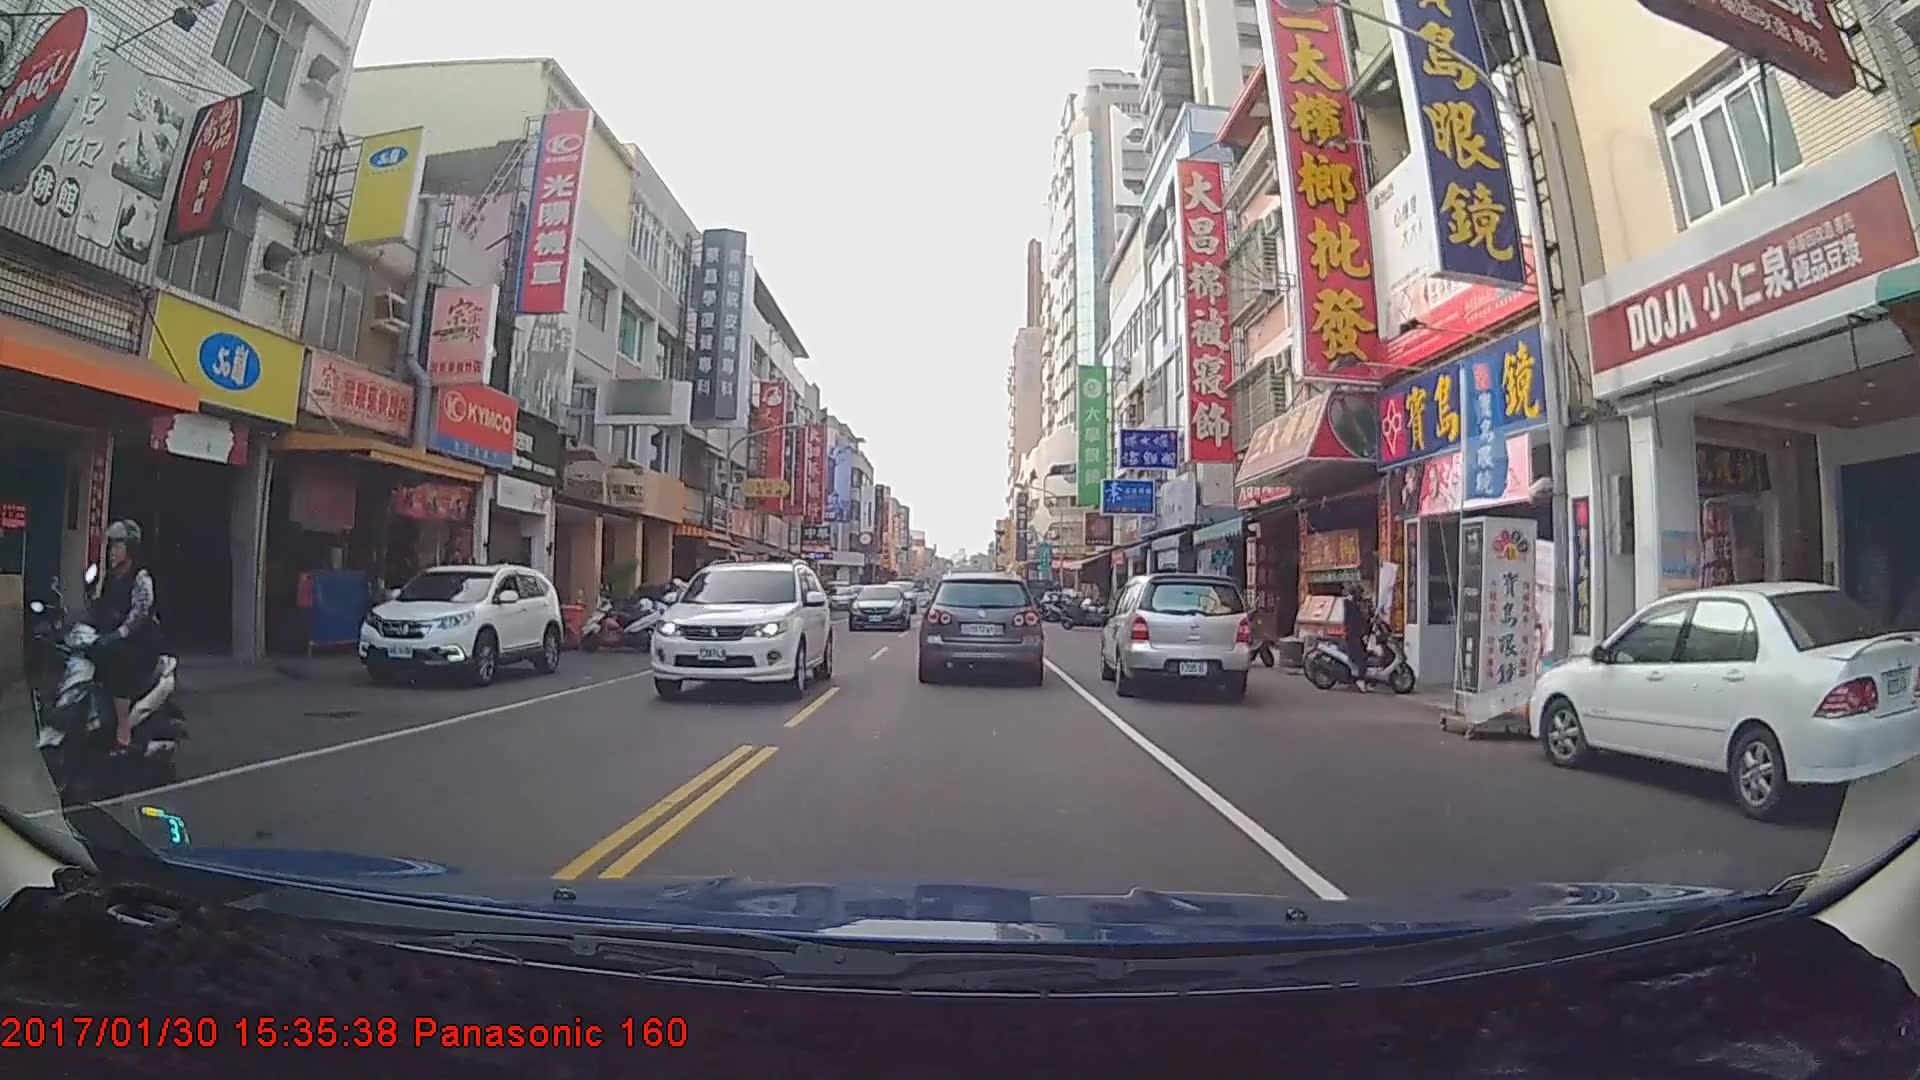rider: (20, 518, 183, 806), (1305, 575, 1423, 699)
vehicle: (1526, 580, 1920, 818), (351, 559, 564, 689), (649, 559, 834, 702), (1098, 568, 1253, 702), (920, 571, 1043, 681), (847, 581, 913, 631)
